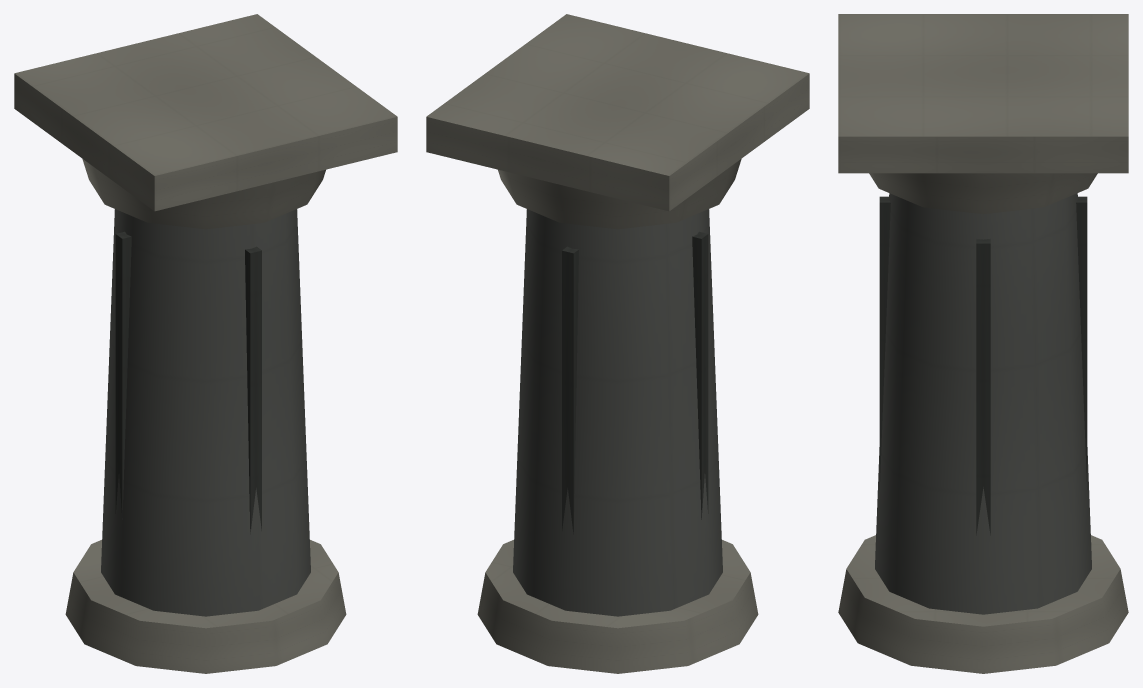
Rendered from sk-pillar.glb.
3 views of the same model, side by side, from view 1: azimuth 30°, elevation 25°; view 2: azimuth 150°, elevation 25°; view 3: azimuth 270°, elevation 25° (orthographic). The views are drawn at different scales.
Visible parts, largest first — view 1: interior:pillar-static-pillar-capital, pillar-shaft, interior:pillar-static-pillar-groove; view 2: interior:pillar-static-pillar-capital, pillar-shaft, interior:pillar-static-pillar-groove; view 3: pillar-shaft, interior:pillar-static-pillar-capital, interior:pillar-static-pillar-groove.
Part boxes in pixels (x1,y1,x2,y2): interior:pillar-static-pillar-capital: (14,14,397,673); pillar-shaft: (101,209,310,616); interior:pillar-static-pillar-groove: (115,231,261,534); interior:pillar-static-pillar-capital: (426,14,809,673); pillar-shaft: (513,209,722,616); interior:pillar-static-pillar-groove: (562,231,708,534); pillar-shaft: (875,193,1091,614); interior:pillar-static-pillar-capital: (838,14,1128,673); interior:pillar-static-pillar-groove: (879,196,1087,535).
Bounding box in the file's own units: 0.72 × 1.47 × 0.72.
3 materials, 3 textured.
